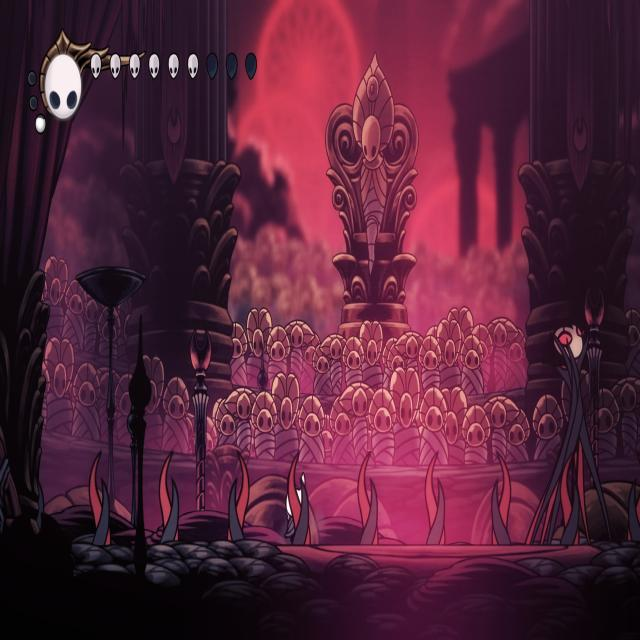Grimm: (522, 319, 608, 543)
Player: (284, 469, 306, 545)
Spikes: (86, 448, 112, 548), (285, 448, 310, 547), (225, 450, 249, 542), (157, 450, 180, 545), (423, 453, 447, 544), (357, 447, 378, 547), (490, 460, 513, 543)
